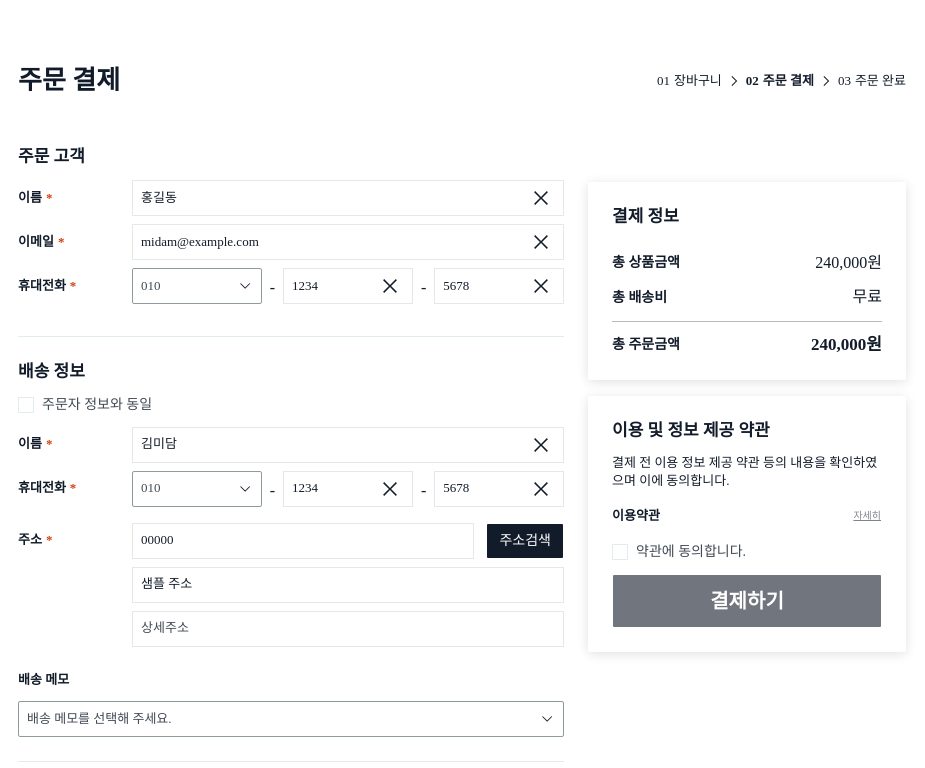
Test case: 결제수단 누락을 안내하고 선택하면 경고를 제거한다
Click the checkbox named "약관에 동의합니다." next to "약관에 동의합니다.": point(620, 552) [612, 544, 628, 560]
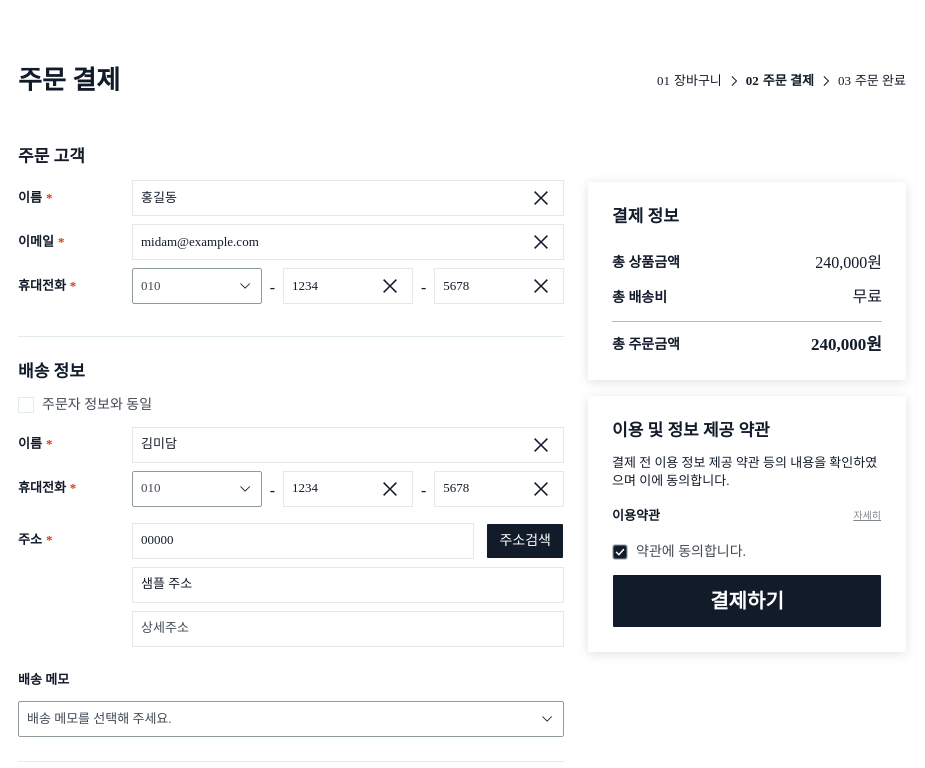
Click the button "결제하기": point(747, 601) [612, 574, 882, 628]
(page scrolled)
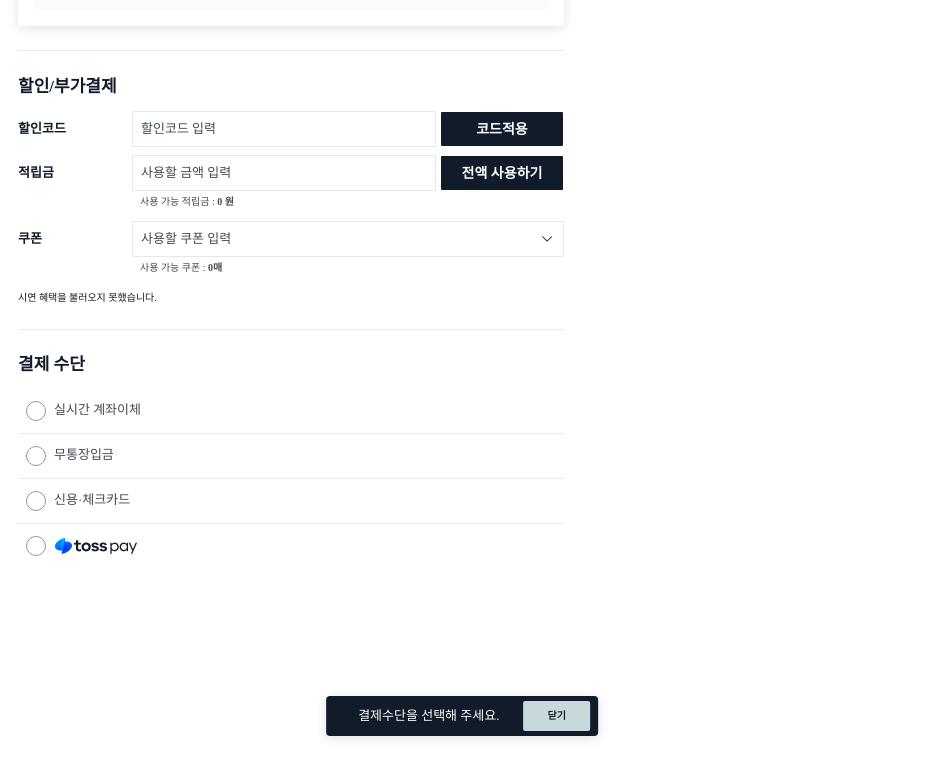
Expected: the text "결제수단을 선택해 주세요." is shown, [358, 708, 499, 723]
Click the radio button named "신용·체크카드" next to "신용·체크카드": point(36, 500) [26, 490, 46, 510]
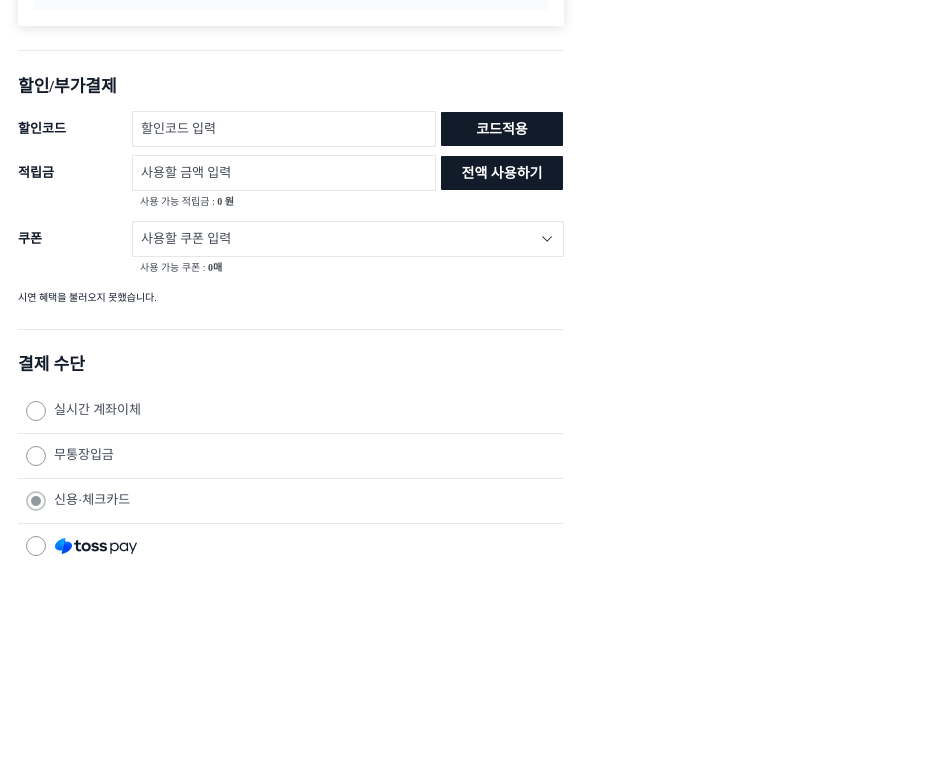
Expected: the radio button named "신용·체크카드" next to "신용·체크카드" is checked, [26, 490, 46, 510]
Expected: the text "결제수단을 선택해 주세요." is gone
